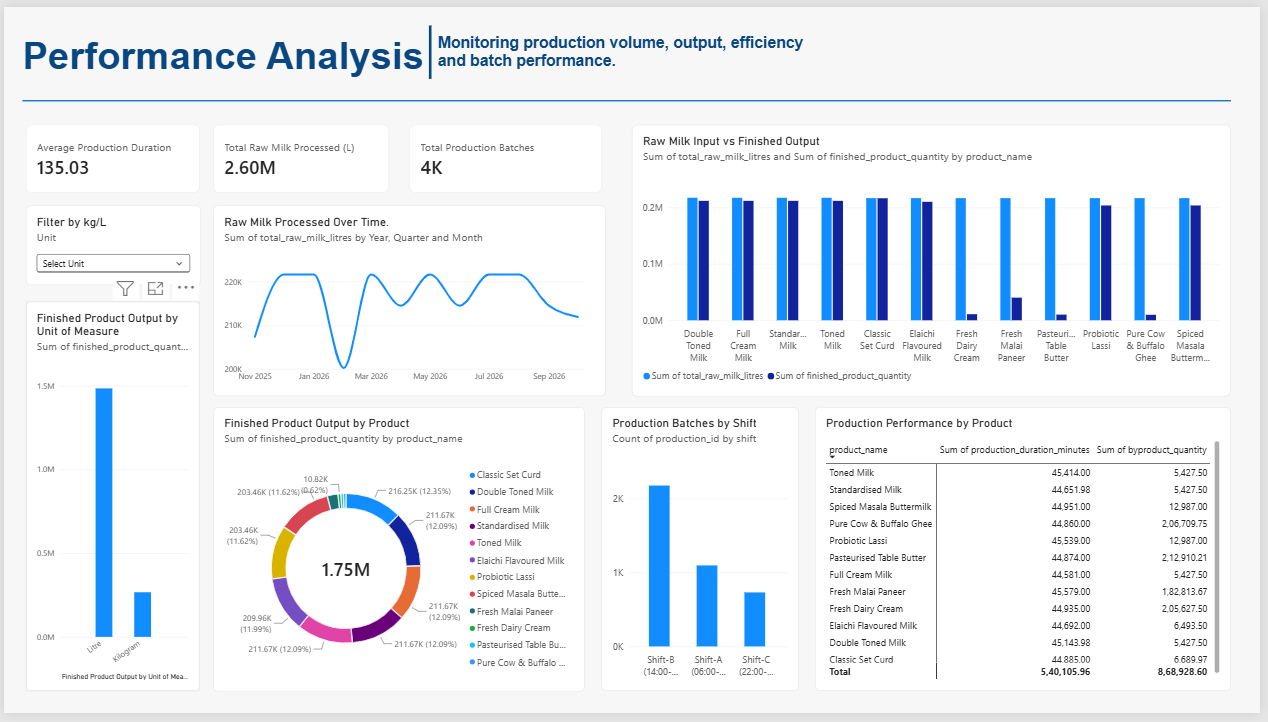

The dashboard page shown, as its layout file describes it:
{"tool":"powerbi","page":{"name":"Page 3","canvas":[1920,1080],"ordinal":2},"visuals":[{"type":"textbox","box":[28,40,672,104],"z":0},{"type":"textbox","box":[664,40,576,104],"z":1000},{"type":"cardVisual","fields":{"Data":["dim_collection_centre.Total Production Batches"]},"box":[620,180,294,104],"z":2000},{"type":"cardVisual","fields":{"Data":["dim_collection_centre.Total Raw Milk Processed"]},"box":[320,180,268,104],"z":3000},{"type":"cardVisual","fields":{"Data":["dim_collection_centre.Average Production Duration"]},"box":[34,180,266,104],"z":4000},{"type":"donutChart","title":"Finished Product Output by Product","fields":{"Category":["gold production_performance.product_name"],"Y":["Sum(gold production_performance.finished_product_quantity)"]},"box":[320,612,568,436],"z":5000},{"type":"clusteredColumnChart","title":"Raw Milk Input vs Finished Output","fields":{"Category":["gold production_performance.product_name"],"Y":["Sum(gold production_performance.total_raw_milk_litres)","Sum(gold production_performance.finished_product_quantity)"]},"box":[960,180,916,416],"z":6000},{"type":"clusteredColumnChart","title":"Production Batches by Shift","fields":{"Category":["gold production_performance.shift"],"Y":["Count(gold production_performance.production_id)"]},"box":[914,612,302,434],"z":7000},{"type":"pivotTable","title":"Production Performance by Product","fields":{"Rows":["gold production_performance.product_name"],"Values":["Sum(gold production_performance.production_duration_minutes)","Sum(gold production_performance.byproduct_quantity)"]},"box":[1240,612,636,434],"z":8000},{"type":"listSlicer","title":"Filter by kg/L","fields":{"Values":["dim_unit.Unit"]},"box":[34,304,268,122],"z":9000},{"type":"lineChart","title":"Raw Milk Processed Over Time.","fields":{"Category":["dim_date.Date.Variation.Date Hierarchy.Year","dim_date.Date.Variation.Date Hierarchy.Quarter","dim_date.Date.Variation.Date Hierarchy.Month"],"Y":["Sum(gold production_performance.total_raw_milk_litres)"]},"box":[320,304,600,292],"z":10000},{"type":"columnChart","title":"Finished Product Output by Unit of Measure","fields":{"Category":["gold production_performance.unit_of_measure"],"Y":["Sum(gold production_performance.finished_product_quantity)"]},"box":[34,450,266,596],"z":11000},{"type":"shape","box":[28,68,1848,150],"z":12000},{"type":"shape","box":[502,28,300,82],"z":13000}]}

Visuals, with their boxes in screenshot pixels (x1, y1, x2, y2), scaled from the page's 1920x1080 canvas onto the 1268x722 screenshot:
textbox: <region>18, 27, 462, 96</region>
textbox: <region>439, 27, 819, 96</region>
cardVisual - dim_collection_centre.Total Production Batches: <region>409, 120, 604, 190</region>
cardVisual - dim_collection_centre.Total Raw Milk Processed: <region>211, 120, 388, 190</region>
cardVisual - dim_collection_centre.Average Production Duration: <region>22, 120, 198, 190</region>
"Finished Product Output by Product" donutChart: <region>211, 409, 586, 701</region>
"Raw Milk Input vs Finished Output" clusteredColumnChart: <region>634, 120, 1239, 398</region>
"Production Batches by Shift" clusteredColumnChart: <region>604, 409, 803, 699</region>
"Production Performance by Product" pivotTable: <region>819, 409, 1239, 699</region>
"Filter by kg/L" listSlicer: <region>22, 203, 199, 285</region>
"Raw Milk Processed Over Time." lineChart: <region>211, 203, 608, 398</region>
"Finished Product Output by Unit of Measure" columnChart: <region>22, 301, 198, 699</region>
shape: <region>18, 45, 1239, 146</region>
shape: <region>332, 19, 530, 74</region>
